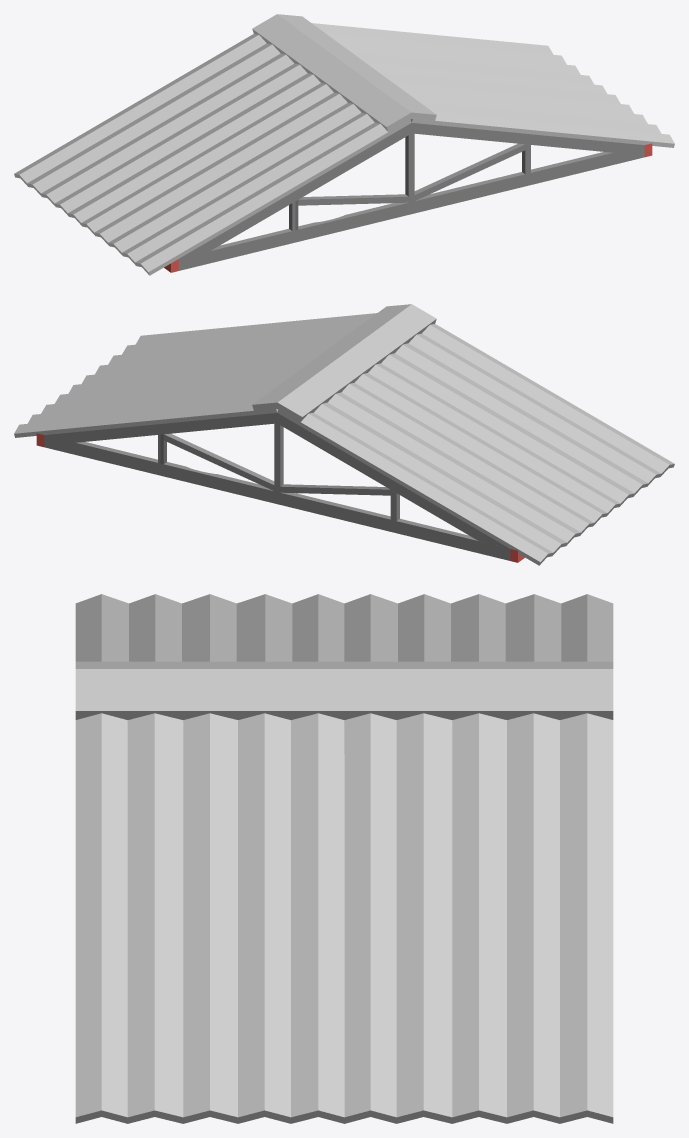
Rendered from Wh_Roof_12m.fbx.
3 views of the same model, one above another, from view 1: azimuth 30°, elevation 25°; view 2: azimuth 150°, elevation 25°; view 3: azimuth 270°, elevation 25° (orthographic). The views are drawn at different scales.
Parts seen in each view (by area): view 1: Cube.1062; view 2: Cube.1062; view 3: Cube.1062.
Part boxes in pixels (box(x1,y1,x2,y2)): Cube.1062: box(14, 14, 674, 275); Cube.1062: box(14, 304, 674, 565); Cube.1062: box(75, 594, 613, 1123).
Size of the model in its own units: 1363 by 250 by 600.
